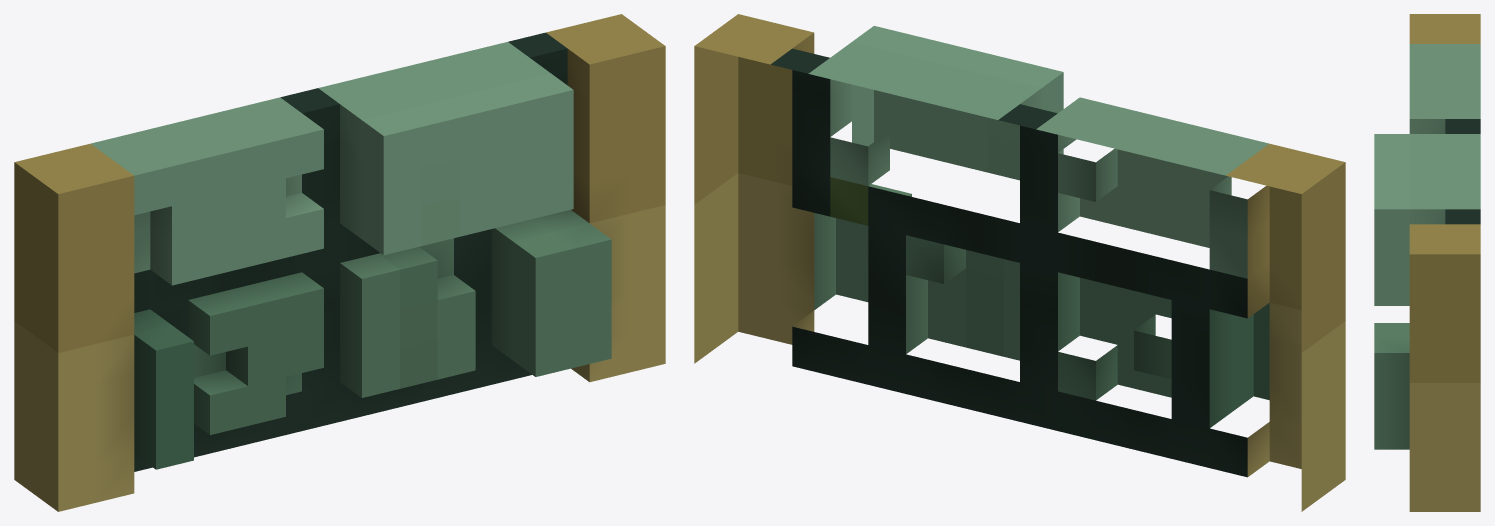
Rendered from wall_plain_1.glb.
3 views of the same model, side by side, from view 1: azimuth 30°, elevation 25°; view 2: azimuth 150°, elevation 25°; view 3: azimuth 270°, elevation 25° (orthographic). The views are drawn at different scales.
Visible parts, largest first — view 1: wall_plain_1; view 2: wall_plain_1; view 3: wall_plain_1.
Boxes of the visible parts, x1,y1,x2,y2 form: wall_plain_1: (14,14,665,511); wall_plain_1: (694,14,1345,511); wall_plain_1: (1374,14,1480,511).
Bounding box in the file's own units: 1 × 0.5 × 0.1875.
